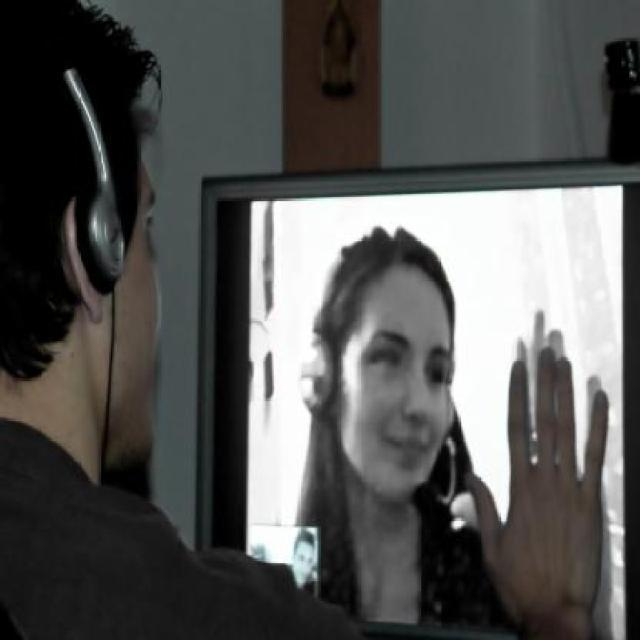earphone: (50, 58, 132, 312)
